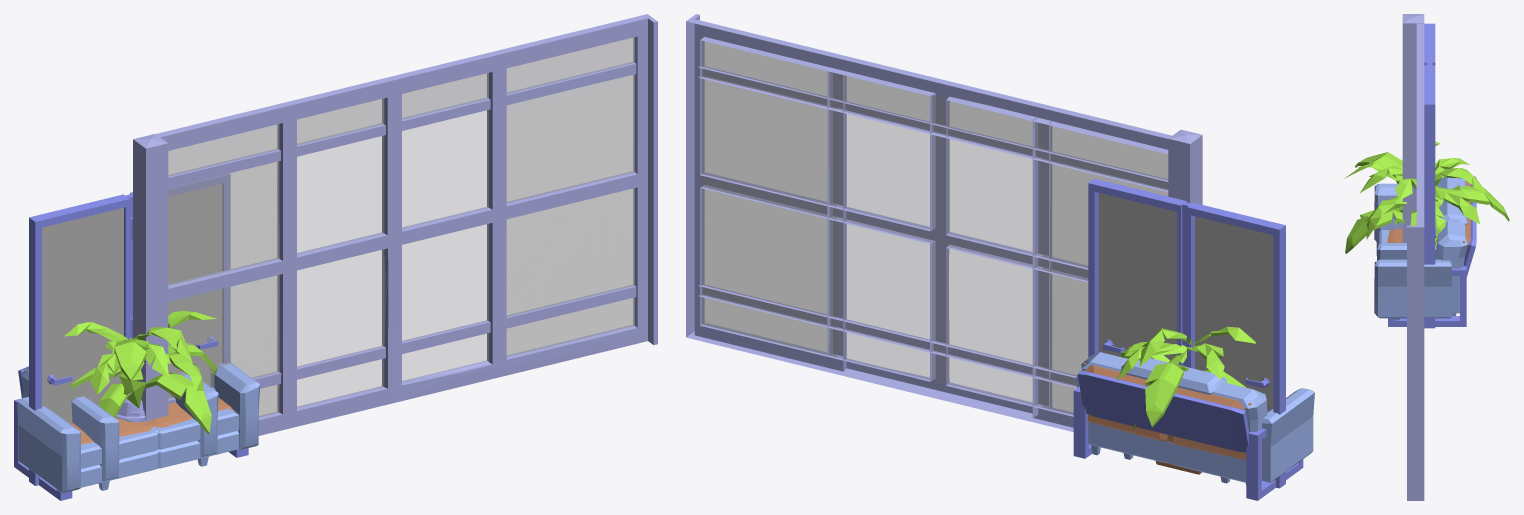
File: Enviroment.fbx
The picture shows the model from 3 angles, left to right: view 1: azimuth 30°, elevation 25°; view 2: azimuth 150°, elevation 25°; view 3: azimuth 270°, elevation 25°; orthographic projection. The views are drawn at different scales.
Parts seen in each view (by area): view 1: SM_Bld_Wall_Glass_Large_01_Glass, SM_Bld_Wall_Glass_Large_Door_01_Glass, SM_Bld_Wall_Glass_Large_Door_01, SM_Bld_Wall_Glass_Large_01, SM_Bld_Door_Large_01_R_Glass, SM_Prop_Couch_02, SM_Bld_Door_Large_01_L_Glass, SM_Bld_Wall_Glass_Pillar_01, SM_Bld_Door_Large_01_R, SM_Prop_Plant_13, SM_Prop_Plant_06, SM_Prop_Couch_01 (+2 smaller); view 2: SM_Bld_Wall_Glass_Large_01_Glass, SM_Bld_Wall_Glass_Large_Door_01_Glass, SM_Bld_Wall_Glass_Large_01, SM_Bld_Wall_Glass_Large_Door_01, SM_Bld_Door_Large_01_R_Glass, SM_Bld_Door_Large_01_L_Glass, SM_Prop_Couch_04, SM_Prop_Couch_02, SM_Bld_Door_Large_01_R, SM_Bld_Door_Large_01_L, SM_Prop_Plant_13, SM_Prop_Plant_06 (+2 smaller); view 3: SM_Bld_Wall_Glass_Large_01, SM_Prop_Couch_02, SM_Prop_Plant_13, SM_Bld_Wall_Glass_Pillar_01, SM_Bld_Door_Large_01_L, SM_Prop_Plant_06, SM_Prop_Couch_04, SM_Prop_Couch_01, SM_Bld_Wall_Glass_Large_Door_01, SM_Bld_Door_Large_01_R.
Boxes of the visible parts, x1,y1,x2,y2 form: SM_Bld_Wall_Glass_Large_01_Glass: (168,37,634,416); SM_Bld_Wall_Glass_Large_Door_01_Glass: (168,37,634,417); SM_Bld_Wall_Glass_Large_Door_01: (133,14,657,435); SM_Bld_Wall_Glass_Large_01: (157,14,657,435); SM_Bld_Door_Large_01_R_Glass: (42,207,123,423); SM_Prop_Couch_02: (17,363,260,493); SM_Bld_Door_Large_01_L_Glass: (168,184,221,397); SM_Bld_Wall_Glass_Pillar_01: (133,134,168,468); SM_Bld_Door_Large_01_R: (29,194,132,485); SM_Prop_Plant_13: (64,310,216,408); SM_Prop_Plant_06: (70,339,216,434); SM_Prop_Couch_01: (71,372,218,490); SM_Bld_Wall_Glass_Large_01_Glass: (702,41,1167,414); SM_Bld_Wall_Glass_Large_Door_01_Glass: (702,41,1167,414); SM_Bld_Wall_Glass_Large_01: (686,14,1171,431); SM_Bld_Wall_Glass_Large_Door_01: (686,14,1200,429); SM_Bld_Door_Large_01_R_Glass: (1195,216,1273,411); SM_Bld_Door_Large_01_L_Glass: (1098,193,1176,360); SM_Prop_Couch_04: (1073,362,1303,500); SM_Prop_Couch_02: (1076,352,1314,485); SM_Bld_Door_Large_01_R: (1185,202,1285,488); SM_Bld_Door_Large_01_L: (1088,178,1187,366); SM_Prop_Plant_13: (1116,326,1256,474); SM_Prop_Plant_06: (1119,346,1245,429); SM_Bld_Wall_Glass_Large_01: (1407,23,1424,500); SM_Prop_Couch_02: (1374,176,1467,320); SM_Prop_Plant_13: (1344,141,1486,245); SM_Bld_Wall_Glass_Pillar_01: (1402,14,1424,242); SM_Bld_Door_Large_01_L: (1424,64,1436,328); SM_Prop_Plant_06: (1345,152,1509,253); SM_Prop_Couch_04: (1387,176,1476,326); SM_Prop_Couch_01: (1376,179,1467,260); SM_Bld_Wall_Glass_Large_Door_01: (1407,23,1424,227); SM_Bld_Door_Large_01_R: (1424,23,1435,65).
Size of the model in its own units: 597 by 303 by 165.
